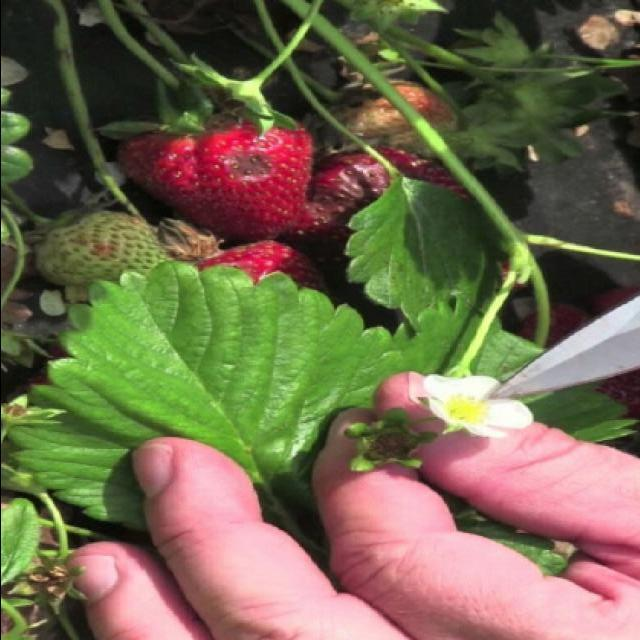Anthracnose Fruit Rot: (199, 124, 313, 241)
